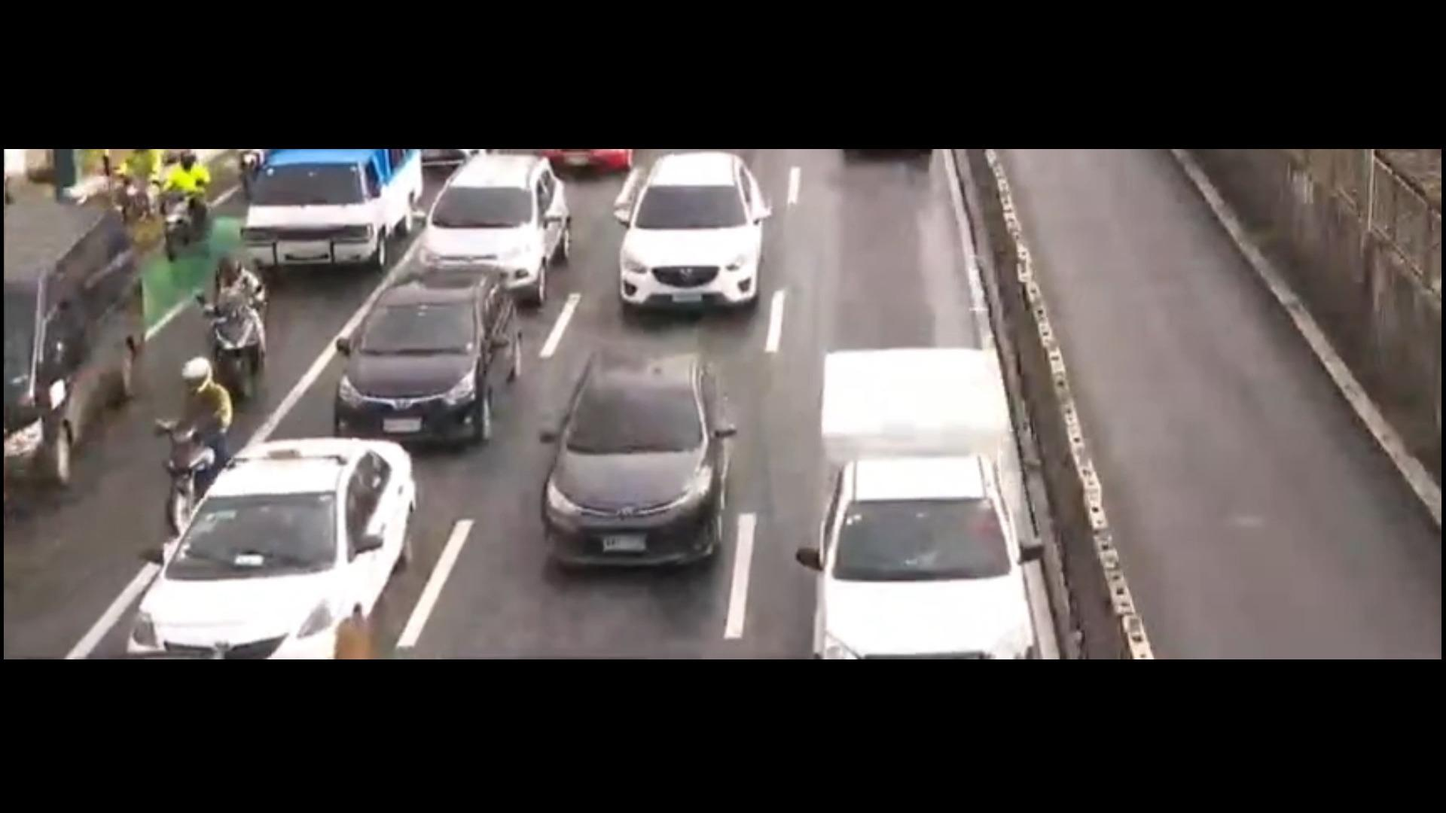Motorcycle: (160, 348, 239, 538), (203, 258, 271, 391), (154, 130, 220, 252)
Multicab: (802, 344, 1045, 657)
SUV: (616, 156, 766, 322), (410, 154, 580, 297)
Sedan: (122, 427, 414, 653), (538, 346, 744, 568), (329, 267, 540, 437)
Van: (0, 209, 137, 506)
